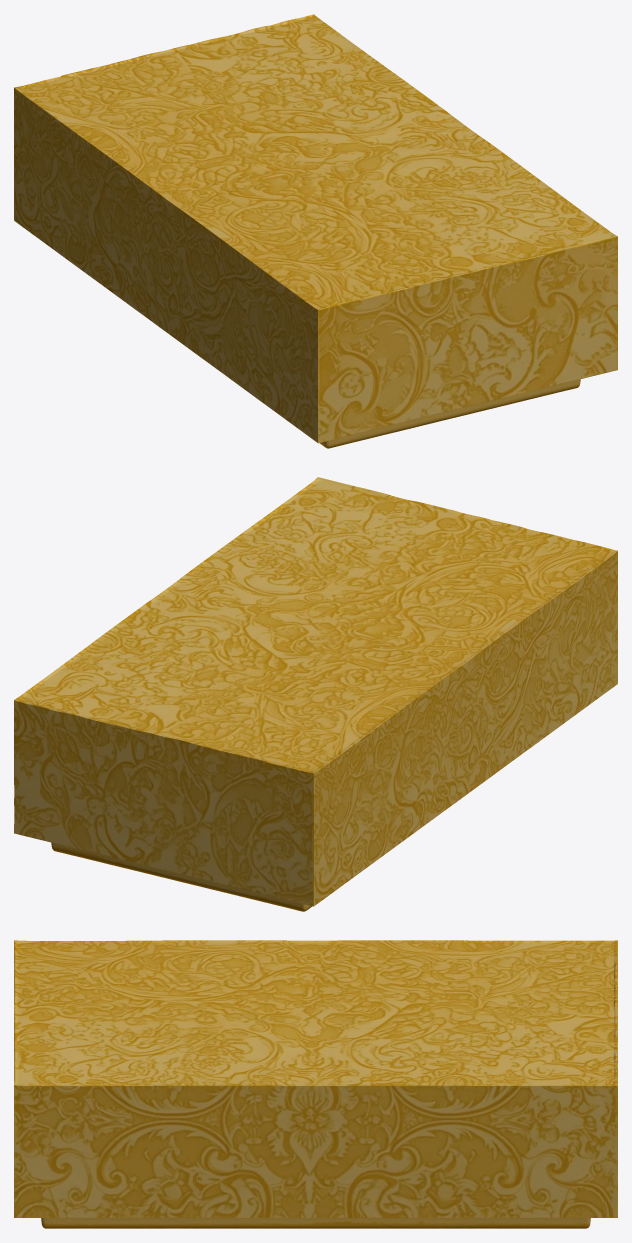
3 renders of one model, top to bottom at view 1: azimuth 30°, elevation 25°; view 2: azimuth 150°, elevation 25°; view 3: azimuth 270°, elevation 25°, orthographic.
Visible parts, largest first — view 1: tripo_node_8928a624-e3d8-45a7-8bea-da729d4cfd9d; view 2: tripo_node_8928a624-e3d8-45a7-8bea-da729d4cfd9d; view 3: tripo_node_8928a624-e3d8-45a7-8bea-da729d4cfd9d.
Boxes of the visible parts, x1,y1,x2,y2 form: tripo_node_8928a624-e3d8-45a7-8bea-da729d4cfd9d: (14,14,617,448); tripo_node_8928a624-e3d8-45a7-8bea-da729d4cfd9d: (14,477,617,911); tripo_node_8928a624-e3d8-45a7-8bea-da729d4cfd9d: (14,940,617,1228).
Size of the model in its own units: 0.5695 by 0.2876 by 1.
Materials: 1 (1 with a texture image).
